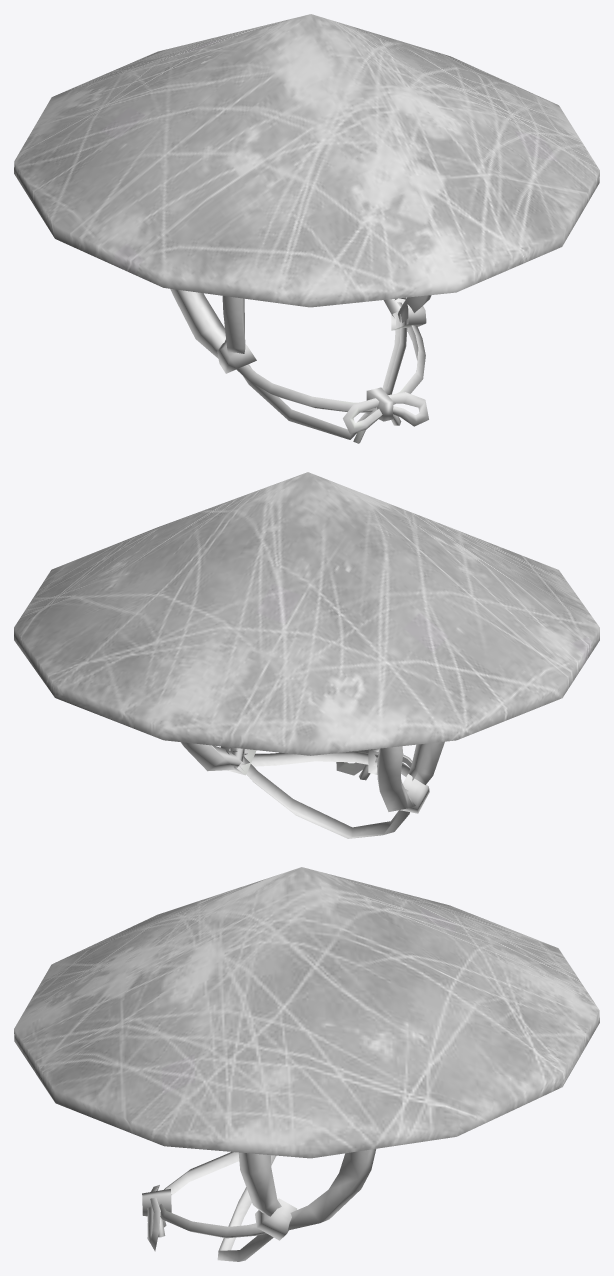
Rendered from helmet-championguardhousesoldiers.glb.
The picture shows the model from 3 angles, top to bottom: view 1: azimuth 30°, elevation 25°; view 2: azimuth 150°, elevation 25°; view 3: azimuth 270°, elevation 25°; orthographic projection.
Size of the model in its own units: 0.4759 by 0.3536 by 0.4759.
Materials: 1 (1 with a texture image).
